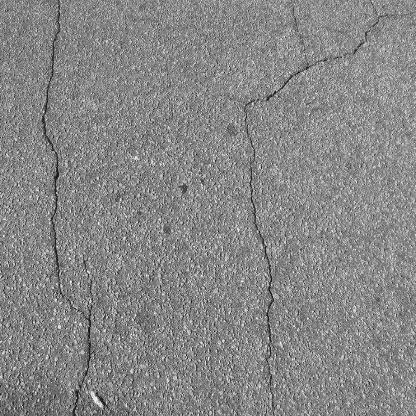Cracks: (39, 0, 99, 416), (242, 3, 416, 105), (239, 99, 288, 416)
